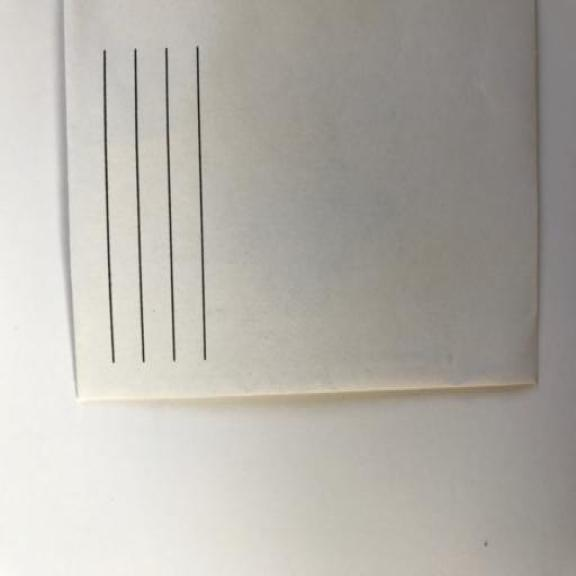Kertas: (53, 0, 552, 414)
